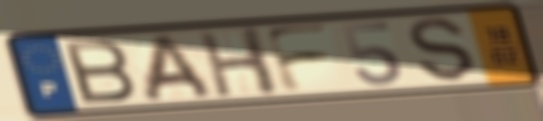5: (339, 20, 405, 88)
A: (141, 32, 218, 104)
B: (59, 37, 139, 106)
F: (260, 22, 334, 95)
H: (194, 25, 283, 100)
S: (406, 16, 480, 84)
